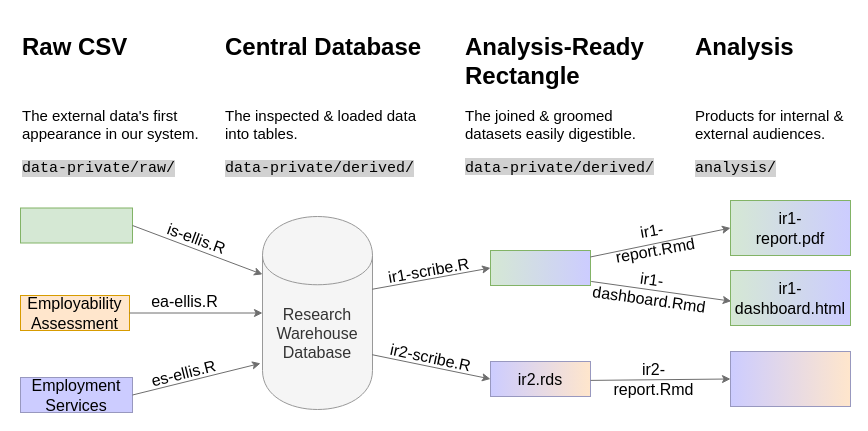
This 868x431 diagram has some shape labels left out. The centre of each missing label's shape, as x and y in pixels:
Income Support: the point at 76,225
ir1.rds: the point at 540,268
ir2- report.html: the point at 790,378
